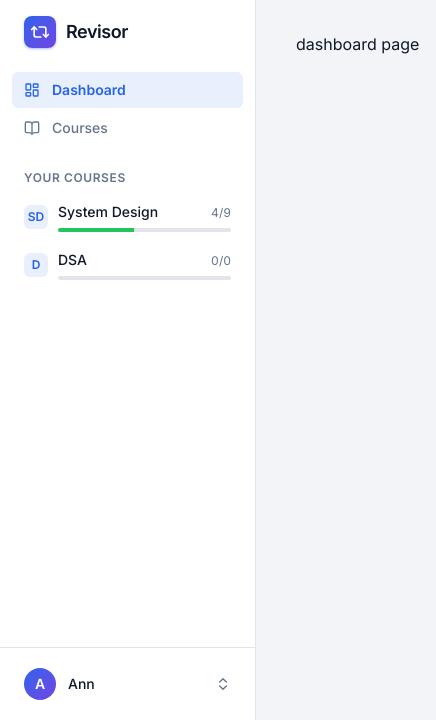
Test: navigation › navigates without leaving the shell
Expected: the text "dashboard page" is shown, x1=296 y1=34 x2=419 y2=54
Click the link "Courses" at (66, 128), box x1=24 y1=119 x2=108 y2=136
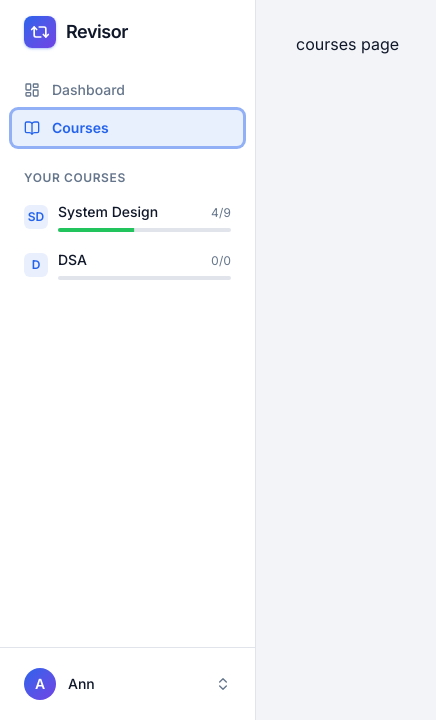
Expected: the navigation bar named "Main" is shown, x1=0 y1=64 x2=255 y2=154
Now the text "courses page" is shown, box x1=296 y1=34 x2=399 y2=54
